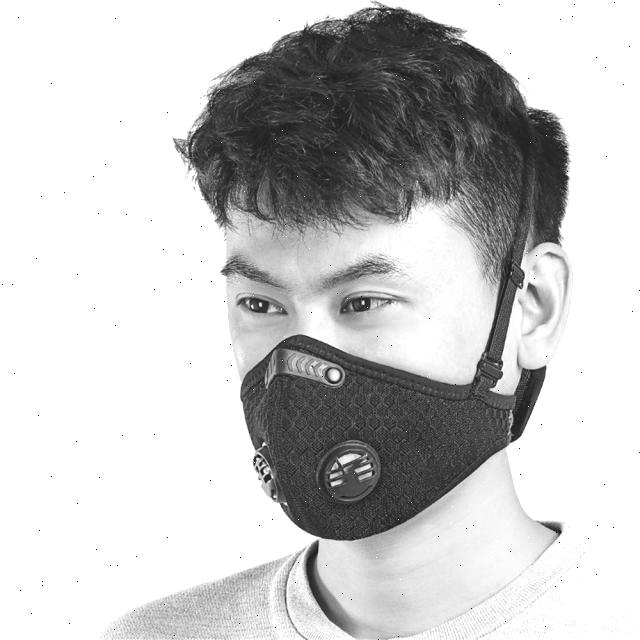fake: (219, 332, 522, 564)
real: (219, 194, 523, 552)
